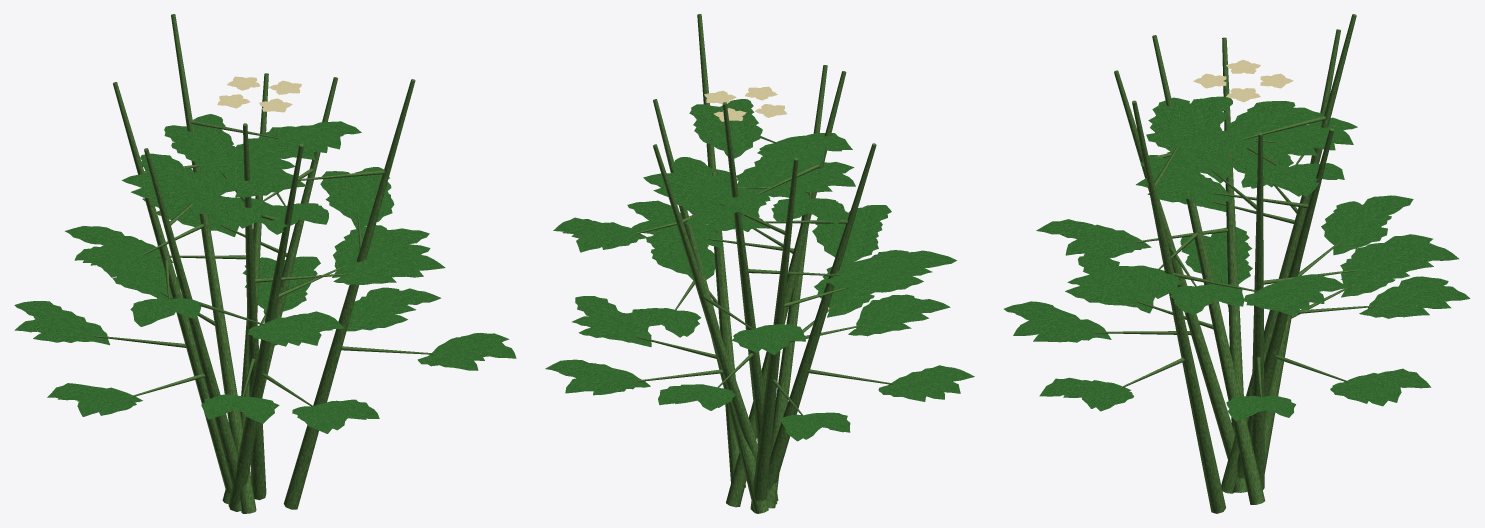
File: PZ_Crop_Potato_Mature.glb
The picture shows the model from 3 angles, left to right: view 1: azimuth 30°, elevation 25°; view 2: azimuth 150°, elevation 25°; view 3: azimuth 270°, elevation 25°; orthographic projection. The views are drawn at different scales.
Parts seen in each view (by area): view 1: PZ_Crop_Potato_Mature_03_Broad_Leaflets, PZ_Crop_Potato_Mature_01_Stem_Shoots, PZ_Crop_Potato_Mature_02_Compound_Petioles, PZ_Crop_Potato_Mature_04_White_Flower_Petals; view 2: PZ_Crop_Potato_Mature_03_Broad_Leaflets, PZ_Crop_Potato_Mature_01_Stem_Shoots, PZ_Crop_Potato_Mature_02_Compound_Petioles, PZ_Crop_Potato_Mature_04_White_Flower_Petals; view 3: PZ_Crop_Potato_Mature_03_Broad_Leaflets, PZ_Crop_Potato_Mature_01_Stem_Shoots, PZ_Crop_Potato_Mature_02_Compound_Petioles, PZ_Crop_Potato_Mature_04_White_Flower_Petals.
Part boxes in pixels (box(x1,y1,x2,y2)): PZ_Crop_Potato_Mature_03_Broad_Leaflets: box(14, 114, 516, 433); PZ_Crop_Potato_Mature_01_Stem_Shoots: box(113, 14, 415, 513); PZ_Crop_Potato_Mature_02_Compound_Petioles: box(93, 120, 435, 406); PZ_Crop_Potato_Mature_04_White_Flower_Petals: box(217, 76, 301, 112); PZ_Crop_Potato_Mature_03_Broad_Leaflets: box(545, 99, 974, 441); PZ_Crop_Potato_Mature_01_Stem_Shoots: box(653, 14, 876, 513); PZ_Crop_Potato_Mature_02_Compound_Petioles: box(633, 136, 894, 415); PZ_Crop_Potato_Mature_04_White_Flower_Petals: box(704, 86, 786, 121); PZ_Crop_Potato_Mature_03_Broad_Leaflets: box(1004, 96, 1470, 421); PZ_Crop_Potato_Mature_01_Stem_Shoots: box(1114, 14, 1356, 513); PZ_Crop_Potato_Mature_02_Compound_Petioles: box(1093, 116, 1377, 397); PZ_Crop_Potato_Mature_04_White_Flower_Petals: box(1193, 60, 1293, 102).
Bounding box in the file's own units: 0.5853 × 0.6489 × 0.5837.
3 materials, 3 textured.
